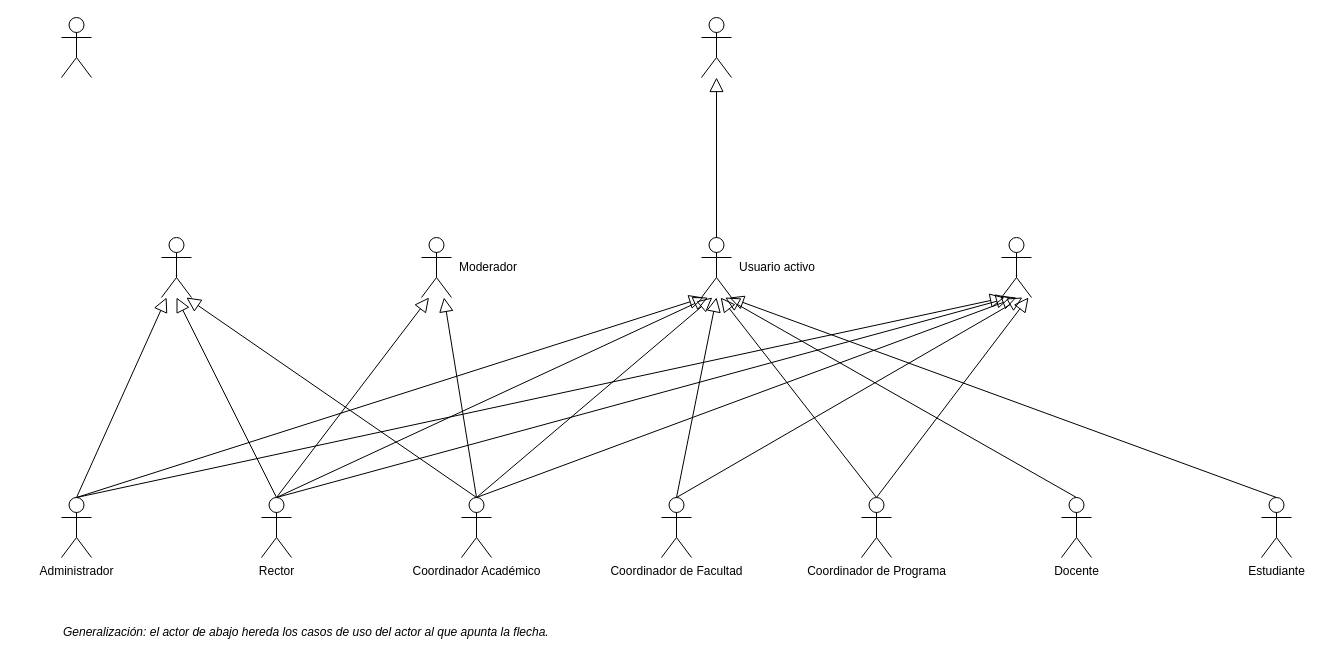
This 1322x665 diagram has some shape labels left out. The centre of each missing label's shape, as x and y in pixels:
Autoridad: (1016,267)
Gestor de categorías: (176,267)
Persona no registrada: (76,47)
Usuario registrado: (716,47)
